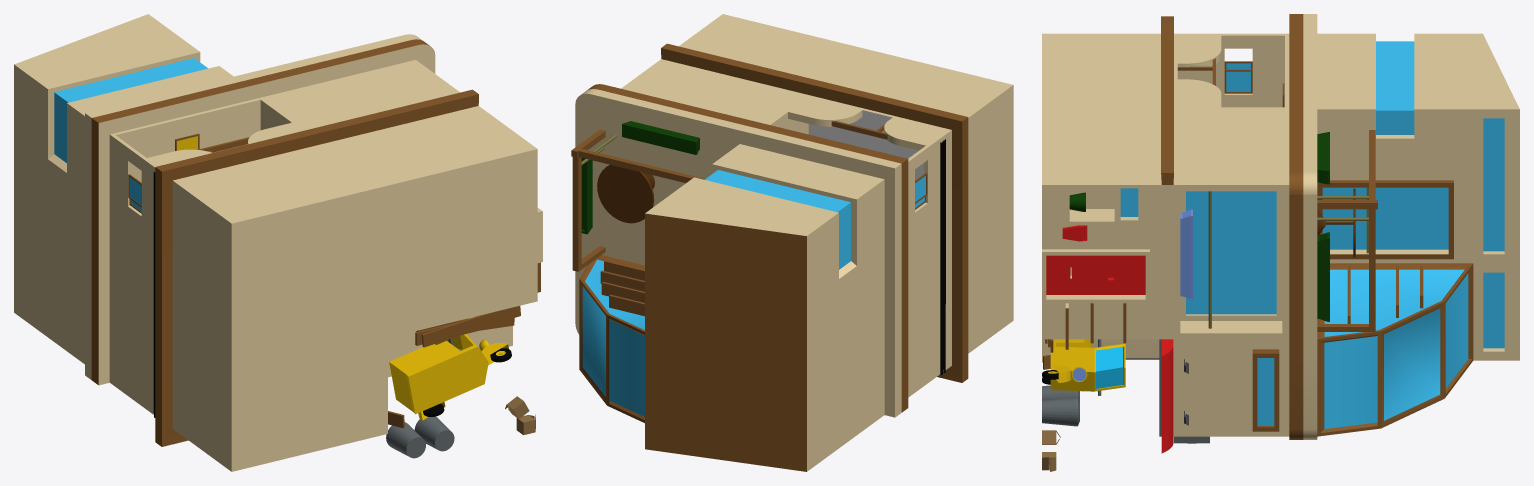
File: House_6.fbx
3 renders of one model, left to right at view 1: azimuth 30°, elevation 25°; view 2: azimuth 150°, elevation 25°; view 3: azimuth 270°, elevation 25°, orthographic. The views are drawn at different scales.
Parts seen in each view (by area): view 1: Cube.217; view 2: Cube.217; view 3: Cube.217.
Part boxes in pixels (bbox=[...]): Cube.217: bbox=[14, 14, 542, 471]; Cube.217: bbox=[571, 14, 1013, 471]; Cube.217: bbox=[1042, 14, 1519, 471].
Bounding box in the file's own units: 5866 × 4735 × 6814.
